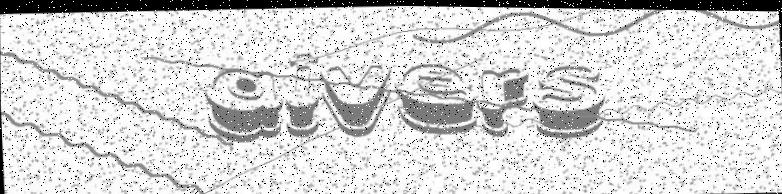a: (203, 64, 287, 144)
e: (393, 59, 479, 137)
i: (283, 50, 321, 138)
r: (476, 65, 530, 135)
s: (530, 61, 606, 139)
v: (318, 62, 394, 140)
